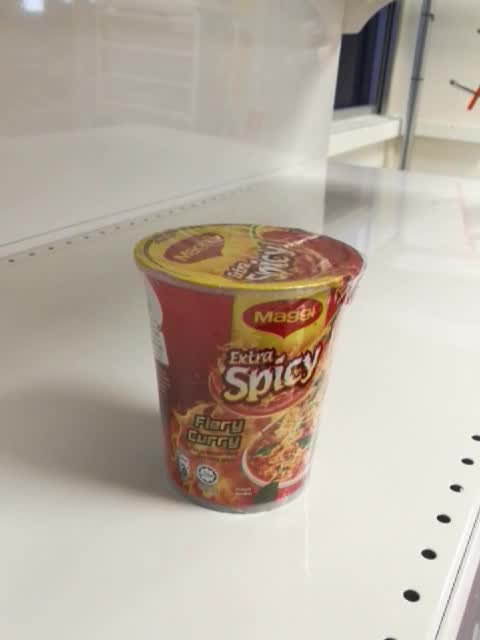maggi: (131, 221, 367, 516)
